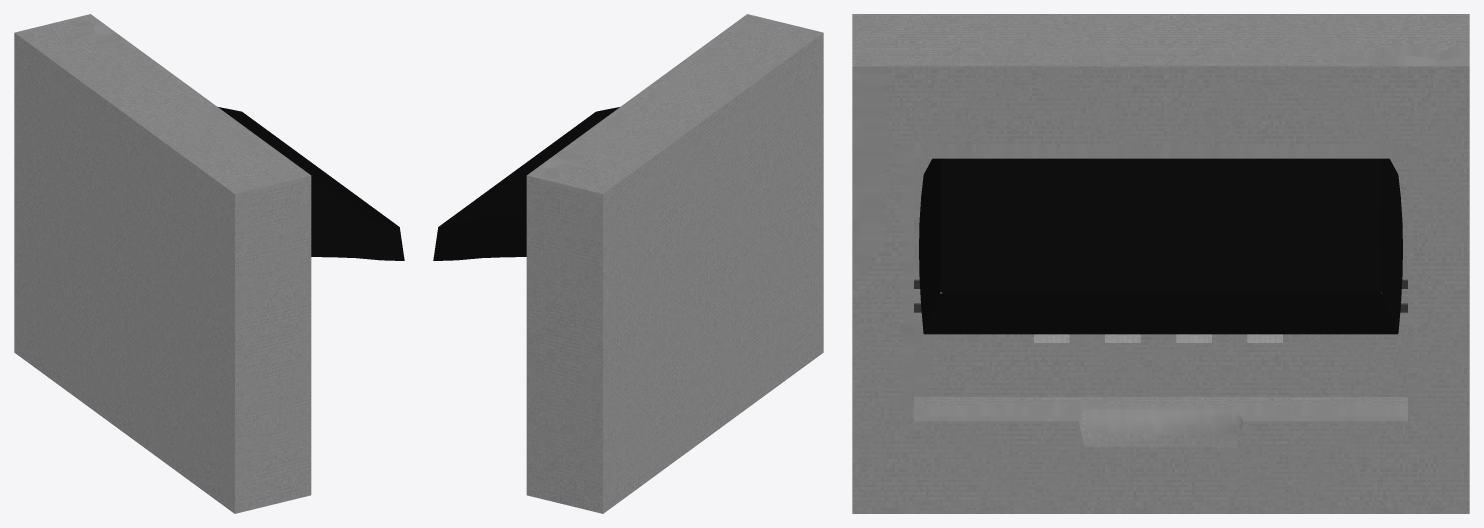
Rendered from switch.glb.
3 renders of one model, left to right at view 1: azimuth 30°, elevation 25°; view 2: azimuth 150°, elevation 25°; view 3: azimuth 270°, elevation 25°, orthographic. The views are drawn at different scales.
Visible parts, largest first — view 1: Cube, Cube.001; view 2: Cube, Cube.001; view 3: Cube, Cube.001, switch.
Boxes of the visible parts, x1,y1,x2,y2 form: Cube: (14,14,311,513); Cube.001: (218,107,404,260); Cube: (526,14,823,513); Cube.001: (433,107,619,260); Cube: (852,14,1469,513); Cube.001: (919,158,1402,334); switch: (1034,334,1282,342).
Bounding box in the file's own units: 0.2569 × 0.4 × 0.5.
Materials: 2 (2 with a texture image).
